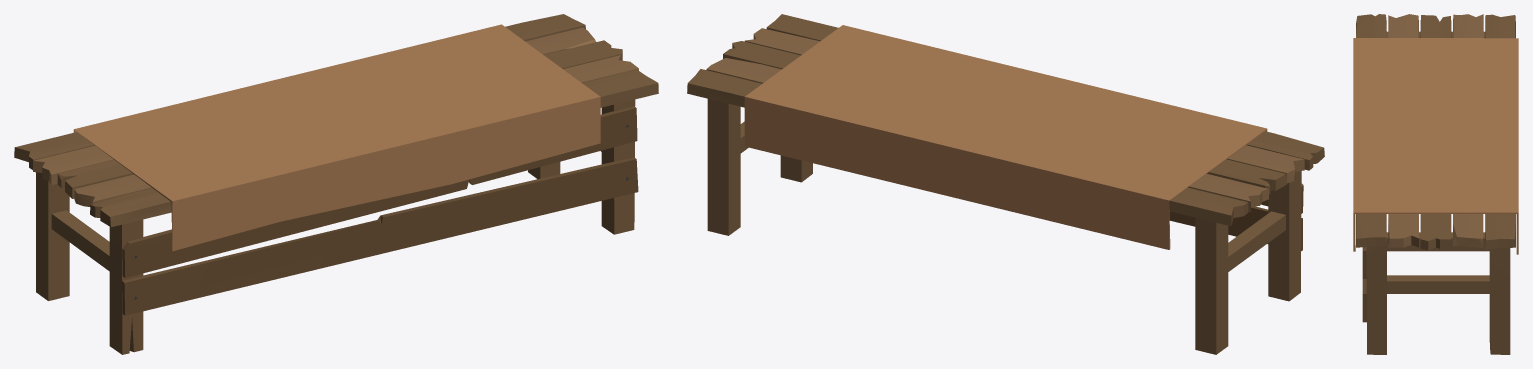
The model's file is Table_02.fbx.
3 views of the same model, side by side, from view 1: azimuth 30°, elevation 25°; view 2: azimuth 150°, elevation 25°; view 3: azimuth 270°, elevation 25° (orthographic). The views are drawn at different scales.
Visible parts, largest first — view 1: Table_02; view 2: Table_02; view 3: Table_02.
Part boxes in pixels (x1=…): Table_02: x1=14, y1=14, x2=658, y2=354; Table_02: x1=687, y1=14, x2=1324, y2=354; Table_02: x1=1353, y1=14, x2=1518, y2=354.
Size of the model in its own units: 263 by 67.2 by 80.73.
